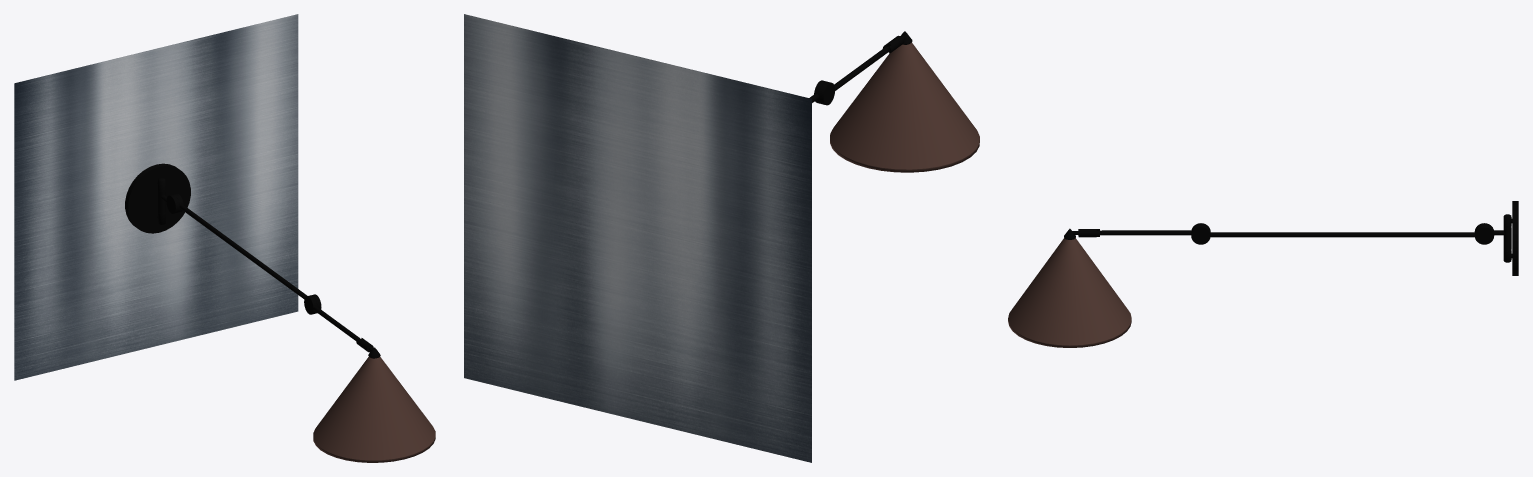
The model's file is Acastanho.glb.
3 renders of one model, left to right at view 1: azimuth 30°, elevation 25°; view 2: azimuth 150°, elevation 25°; view 3: azimuth 270°, elevation 25°, orthographic. The views are drawn at different scales.
Parts seen in each view (by area): view 1: Plano, Abajur, Support, LongArm, ShortArm; view 2: Plano, Abajur, ShortArm; view 3: Abajur, LongArm, ShortArm, Support.
Boxes of the visible parts, x1=… form: Plano: x1=14, y1=14, x2=298, y2=380; Abajur: x1=313, y1=356, x2=435, y2=462; Support: x1=125, y1=163, x2=190, y2=233; LongArm: x1=173, y1=193, x2=321, y2=313; ShortArm: x1=304, y1=295, x2=360, y2=340; Plano: x1=464, y1=14, x2=811, y2=462; Abajur: x1=830, y1=42, x2=979, y2=172; ShortArm: x1=819, y1=46, x2=889, y2=105; Abajur: x1=1008, y1=238, x2=1131, y2=347; LongArm: x1=1191, y1=225, x2=1494, y2=244; ShortArm: x1=1099, y1=223, x2=1210, y2=235; Support: x1=1512, y1=201, x2=1518, y2=275.
Size of what is drawn, in the model's own units: 5 by 5 by 7.56.
6 materials, 2 textured.
